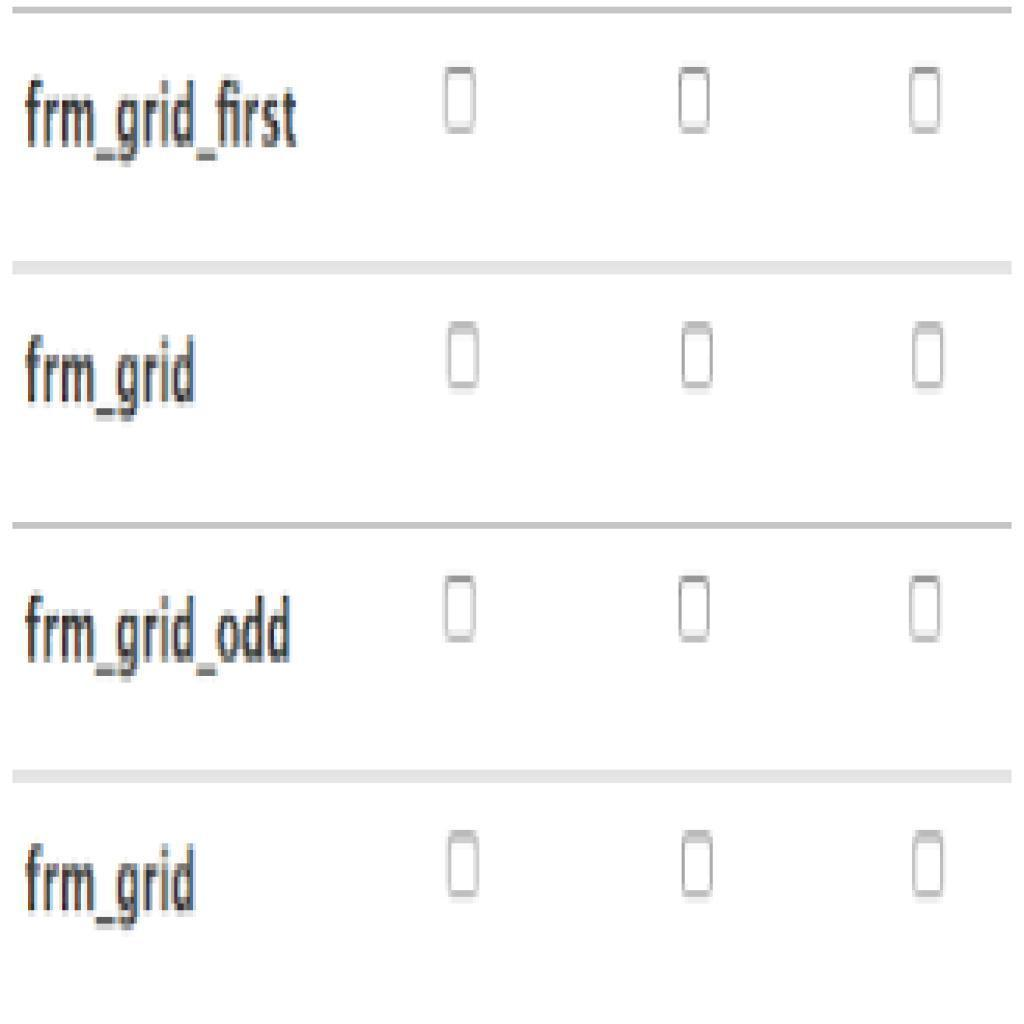checkbox: (443, 574, 478, 646), (445, 68, 480, 134), (678, 69, 712, 136), (908, 576, 942, 643), (910, 323, 946, 386), (682, 322, 715, 390), (914, 829, 946, 898), (448, 323, 481, 389), (909, 67, 941, 132), (680, 580, 712, 644), (449, 837, 481, 897), (685, 833, 713, 897)
